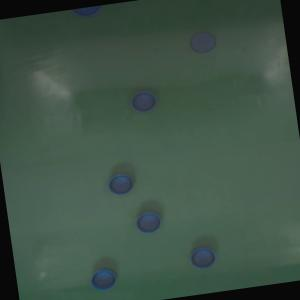dark-blue: (89, 268, 118, 292), (107, 172, 135, 196), (130, 90, 158, 114), (189, 246, 217, 270), (189, 30, 216, 54), (135, 212, 163, 234), (72, 6, 101, 18)
